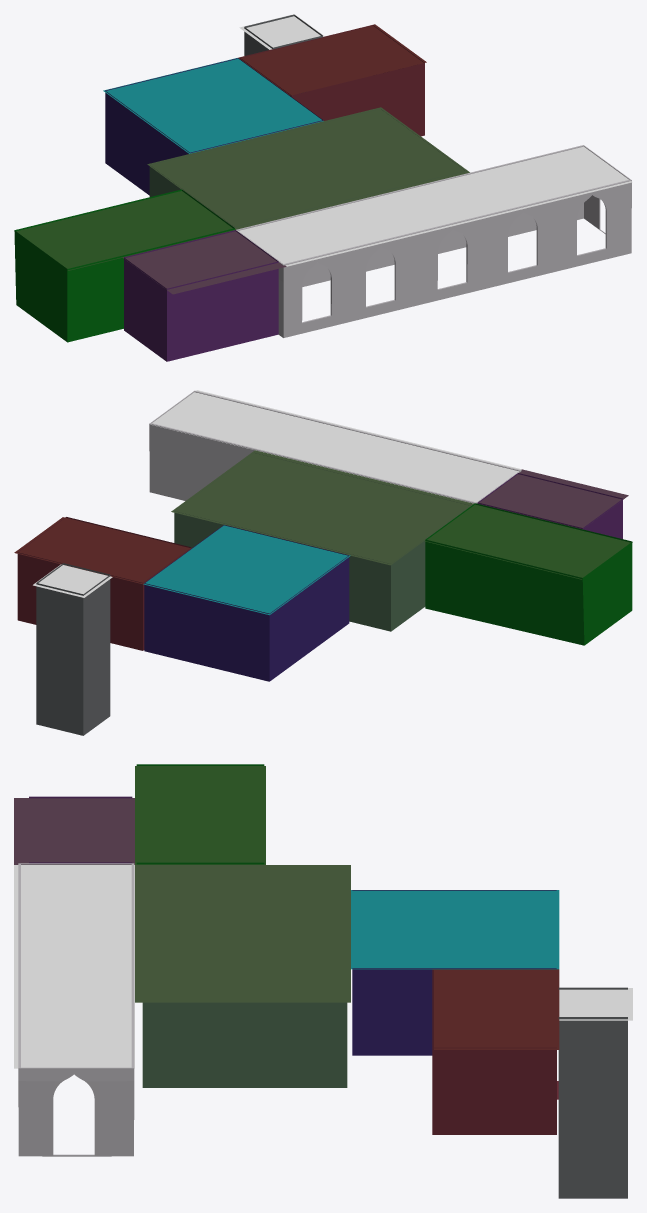
File: Room walls.glb
3 renders of one model, top to bottom at view 1: azimuth 30°, elevation 25°; view 2: azimuth 150°, elevation 25°; view 3: azimuth 270°, elevation 25°, orthographic. The views are drawn at different scales.
Visible parts, largest first — view 1: roof, Cube.006, Cube.005, Cube.004, 1 work room, 2 bedroom, Cube.003, 0elevator; view 2: roof, Cube.004, 2 bedroom, 0elevator, Cube.003, Cube.006, 1 work room, Cube.005; view 3: roof, Cube.003, 0elevator, 1 work room, Cube.006, 2 bedroom, Cube.004.
Boxes of the visible parts, x1=… form: roof: x1=16, y1=14, x2=632, y2=294; Cube.006: x1=236, y1=145, x2=631, y2=337; Cube.005: x1=124, y1=230, x2=278, y2=361; Cube.004: x1=14, y1=189, x2=234, y2=342; 1 work room: x1=240, y1=25, x2=424, y2=136; 2 bedroom: x1=105, y1=58, x2=322, y2=195; Cube.003: x1=149, y1=108, x2=464, y2=227; 0elevator: x1=244, y1=14, x2=322, y2=55; roof: x1=14, y1=390, x2=632, y2=615; Cube.004: x1=425, y1=503, x2=632, y2=645; 2 bedroom: x1=144, y1=525, x2=349, y2=681; 0elevator: x1=36, y1=563, x2=110, y2=735; Cube.003: x1=174, y1=453, x2=468, y2=631; Cube.006: x1=149, y1=390, x2=521, y2=503; 1 work room: x1=17, y1=517, x2=191, y2=650; Cube.005: x1=477, y1=473, x2=622, y2=538; roof: x1=14, y1=766, x2=632, y2=1068; Cube.003: x1=142, y1=1002, x2=347, y2=1087; 0elevator: x1=558, y1=987, x2=627, y2=1198; 1 work room: x1=432, y1=969, x2=558, y2=1134; Cube.006: x1=18, y1=863, x2=134, y2=1156; 2 bedroom: x1=352, y1=890, x2=556, y2=1055; Cube.004: x1=136, y1=764, x2=264, y2=864.
Bounding box in the file's own units: 7.74 × 2.16 × 6.68.
